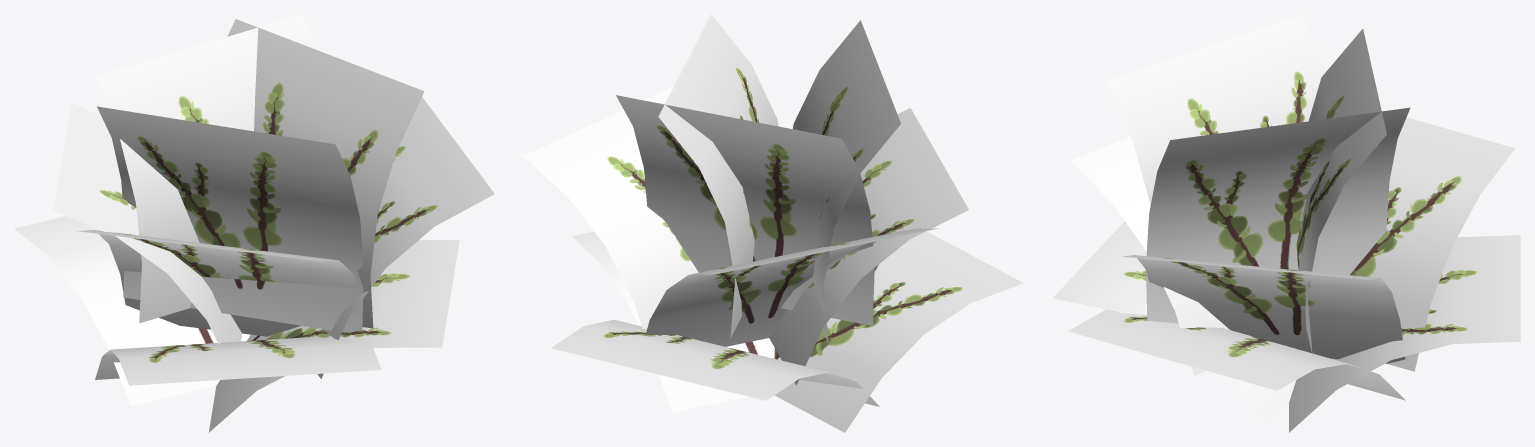
Rendered from plant 4.fbx.
3 views of the same model, side by side, from view 1: azimuth 30°, elevation 25°; view 2: azimuth 150°, elevation 25°; view 3: azimuth 270°, elevation 25° (orthographic). The views are drawn at different scales.
Parts seen in each view (by area): view 1: Plane007, Plane009, Plane008, Plane004, Plane001, Plane002, Plane006, Plane003, Plane005; view 2: Plane008, Plane003, Plane004, Plane005, Plane009, Plane006, Plane007, Plane001, Plane002; view 3: Plane009, Plane007, Plane004, Plane006, Plane001, Plane002, Plane008, Plane003, Plane005.
Boxes of the visible parts, x1,y1,x2,y2 form: Plane007: [97, 106, 363, 332]; Plane009: [227, 19, 424, 328]; Plane008: [95, 14, 317, 323]; Plane004: [317, 97, 494, 378]; Plane001: [14, 216, 250, 406]; Plane002: [208, 240, 459, 432]; Plane006: [53, 103, 242, 344]; Plane003: [95, 336, 381, 385]; Plane005: [77, 230, 358, 336]; Plane008: [616, 95, 874, 325]; Plane003: [774, 231, 1023, 432]; Plane004: [523, 87, 698, 328]; Plane005: [769, 108, 968, 385]; Plane009: [658, 14, 778, 338]; Plane006: [645, 228, 938, 346]; Plane007: [792, 20, 900, 343]; Plane001: [551, 319, 879, 406]; Plane002: [571, 231, 895, 412]; Plane009: [1146, 107, 1410, 323]; Plane007: [1107, 14, 1326, 205]; Plane004: [1122, 255, 1405, 363]; Plane006: [1350, 110, 1515, 371]; Plane001: [1289, 235, 1520, 432]; Plane002: [1068, 309, 1405, 400]; Plane008: [1296, 29, 1386, 355]; Plane003: [1053, 221, 1296, 425]; Plane005: [1070, 136, 1229, 375].
Size of the model in its own units: 71.45 by 51.42 by 73.01.
